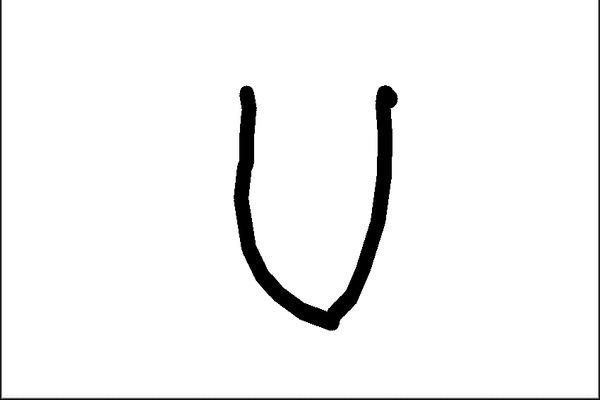U: (219, 76, 404, 341)
